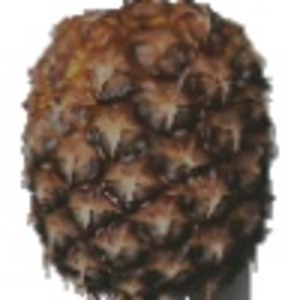abacaxi: (14, 3, 277, 294)
